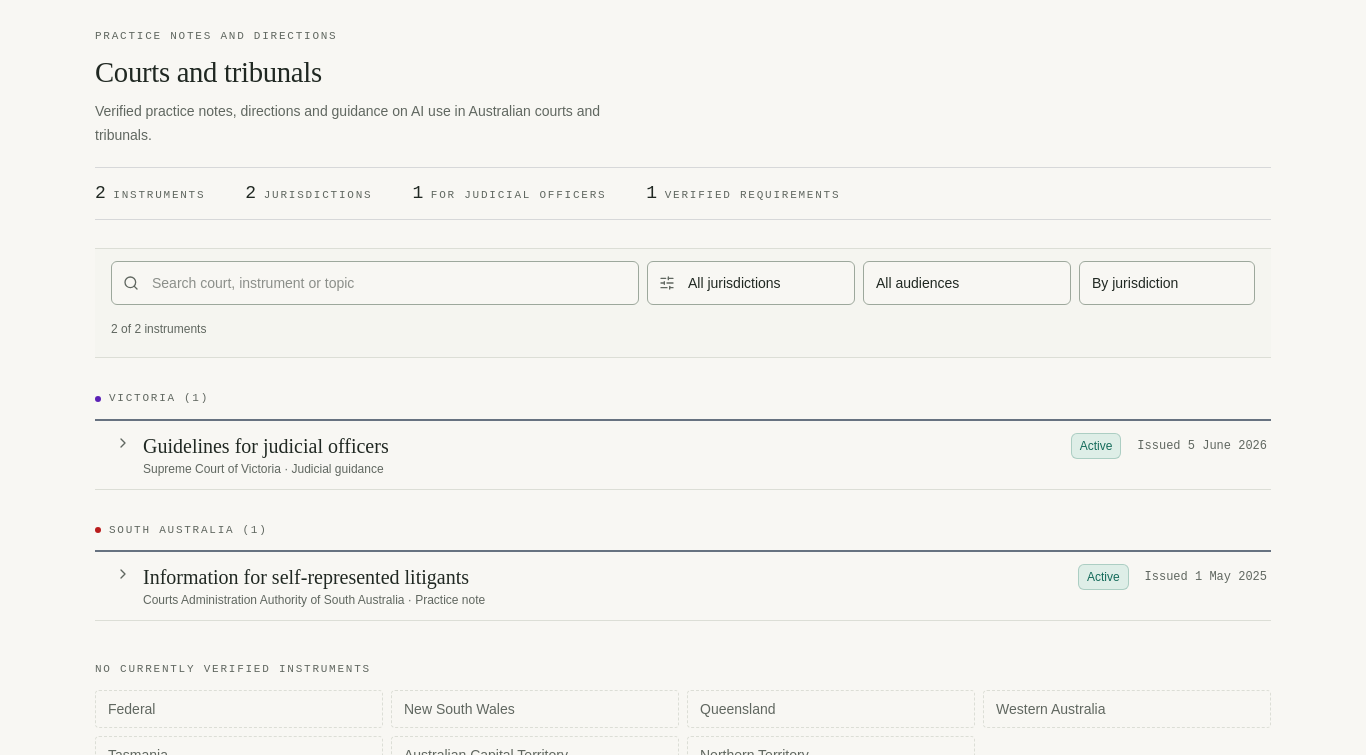
Scenario: CourtsBrowser › finds structured requirement topic affidavit
This screenshot has width=1366, height=755.
(page scrolled)
Type "affidavit" into the search field named "Search court guidance". click: {"x": 375, "y": 283}
box: [111, 261, 639, 305]
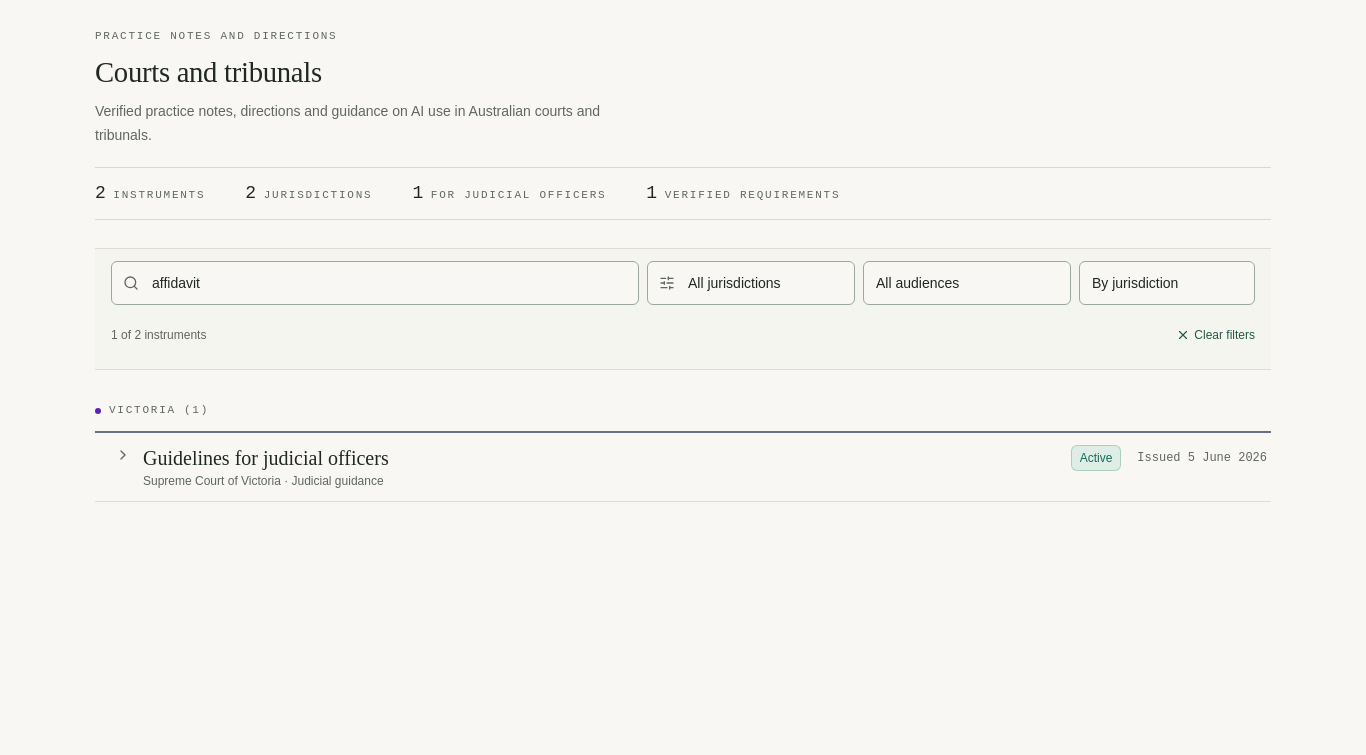
Check: the text "1 of 2 instruments" is shown, box [111, 327, 206, 343]
